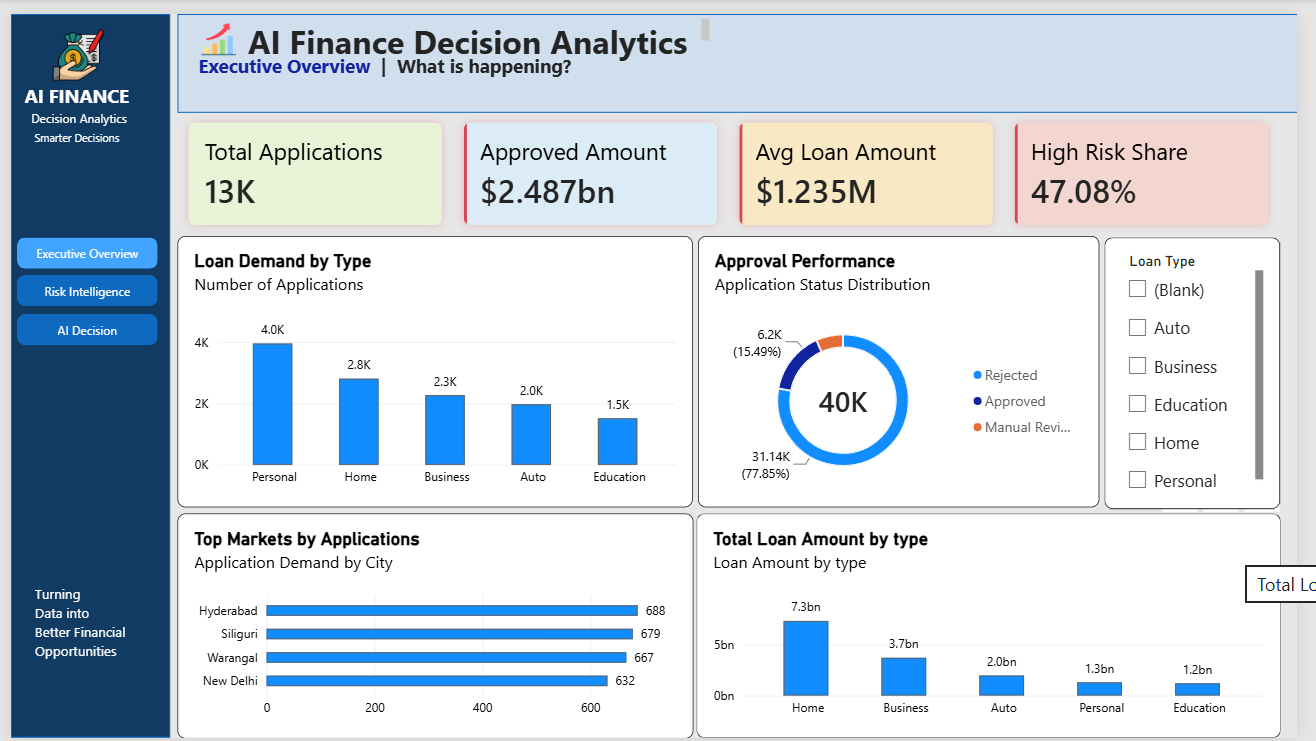

The dashboard page shown, as its layout file describes it:
{"tool":"powerbi","page":{"name":"Executive Overview","canvas":[1280,720],"ordinal":0},"visuals":[{"type":"shape","box":[0,0,158.3,720],"z":0},{"type":"clusteredColumnChart","title":"Loan Demand by Type","fields":{"Category":["loan.type"],"Y":["CountNonNull(loan.app_id)"]},"box":[165.7,221.4,512.9,270],"z":1000},{"type":"donutChart","title":"Approval Performance","fields":{"Category":["decision.status"],"Y":["CountNonNull(decision.app_id)"]},"box":[683.1,221.5,399.2,270],"z":2000},{"type":"shape","box":[165,0,1115,98.3],"z":3000},{"type":"clusteredBarChart","title":"Top Markets by Applications","fields":{"Category":["customer.city"],"Y":["CountNonNull(loan.app_id)"]},"box":[165.8,496.8,513.2,223.7],"z":4000},{"type":"clusteredColumnChart","fields":{"Category":["loan.type"],"Y":["loan.Total Loan Amount"]},"box":[682.8,496.9,581.2,223.4],"z":5000},{"type":"cardVisual","fields":{"Data":["loan.Total Applications","decision.Approved Amount","loan.Avg Loan Amount","risk.High Risk Share"]},"box":[165.7,97.1,1098.6,124.3],"z":6000},{"type":"slicer","fields":{"Values":["loan.type"]},"box":[1088.2,221.8,174.5,270],"z":7000},{"type":"textbox","box":[226.6,3.9,468.2,41.8],"z":8000,"group":"g1"},{"type":"textbox","box":[13.3,68.1,124.1,68.5],"z":8000},{"type":"textbox","box":[186.8,38.1,468.2,29.1],"z":9000,"group":"g1"},{"type":"textbox","box":[23.3,566.7,120,110],"z":9000},{"type":"image","box":[23.2,14.6,86.3,52.2],"z":10000},{"type":"image","box":[186.8,6.5,40,35],"z":11000,"group":"g2"},{"type":"actionButton","title":"Executive Overview","box":[5.5,222.1,140,31],"z":11000},{"type":"actionButton","title":"Executive Overview","box":[5.7,260,140,31],"z":12000},{"type":"group","id":"g1","title":"Group 1","box":[186.8,3.9,507.9,64.5],"z":12500,"group":"g2"},{"type":"actionButton","title":"Executive Overview","box":[5.7,298.6,140,31],"z":13000},{"type":"group","id":"g2","title":"Group 2","box":[186.8,3.9,507.9,64.5],"z":14000}]}

Visuals, with their boxes on the page's 1280x720 design canvas (x1, y1, x2, y2). These are canvas units, not pixel positions in the 1316x741 screenshot, which may show the page scaled, cropped or inside an application window:
shape: detection(0, 0, 158, 720)
"Loan Demand by Type" clusteredColumnChart: detection(166, 221, 679, 491)
"Approval Performance" donutChart: detection(683, 222, 1082, 492)
shape: detection(165, 0, 1280, 98)
"Top Markets by Applications" clusteredBarChart: detection(166, 497, 679, 720)
clusteredColumnChart - loan.type x loan.Total Loan Amount: detection(683, 497, 1264, 720)
cardVisual - loan.Total Applications x decision.Approved Amount: detection(166, 97, 1264, 221)
slicer - loan.type: detection(1088, 222, 1263, 492)
textbox: detection(227, 4, 695, 46)
textbox: detection(13, 68, 137, 137)
textbox: detection(187, 38, 655, 67)
textbox: detection(23, 567, 143, 677)
image: detection(23, 15, 110, 67)
image: detection(187, 6, 227, 42)
"Executive Overview" actionButton: detection(6, 222, 146, 253)
"Executive Overview" actionButton: detection(6, 260, 146, 291)
"Group 1" group: detection(187, 4, 695, 68)
"Executive Overview" actionButton: detection(6, 299, 146, 330)
"Group 2" group: detection(187, 4, 695, 68)
